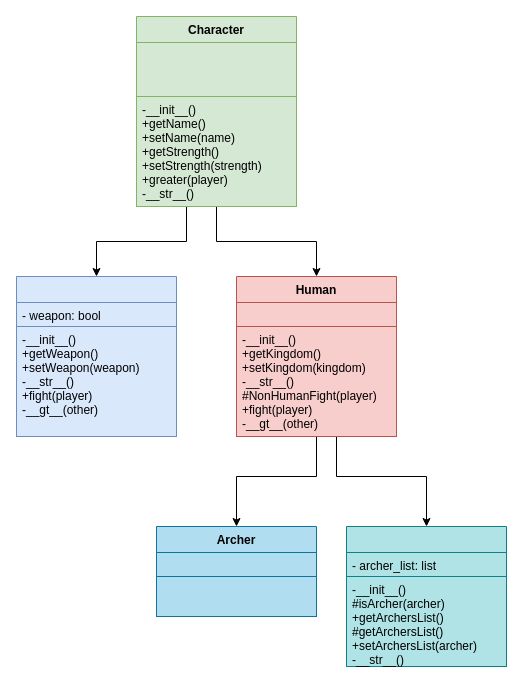
This 523x683 diagram has some shape labels left out. Here are the shapes that lost their labels. From the top down, the box of each, then its label:
(136, 42, 296, 96): - name: str - strength: int/float - weapon = True
(236, 302, 396, 326): - kingdom: str
(16, 276, 176, 436): Orc
(156, 576, 316, 616): -__init__() -__str__()
(346, 526, 506, 666): Knight
